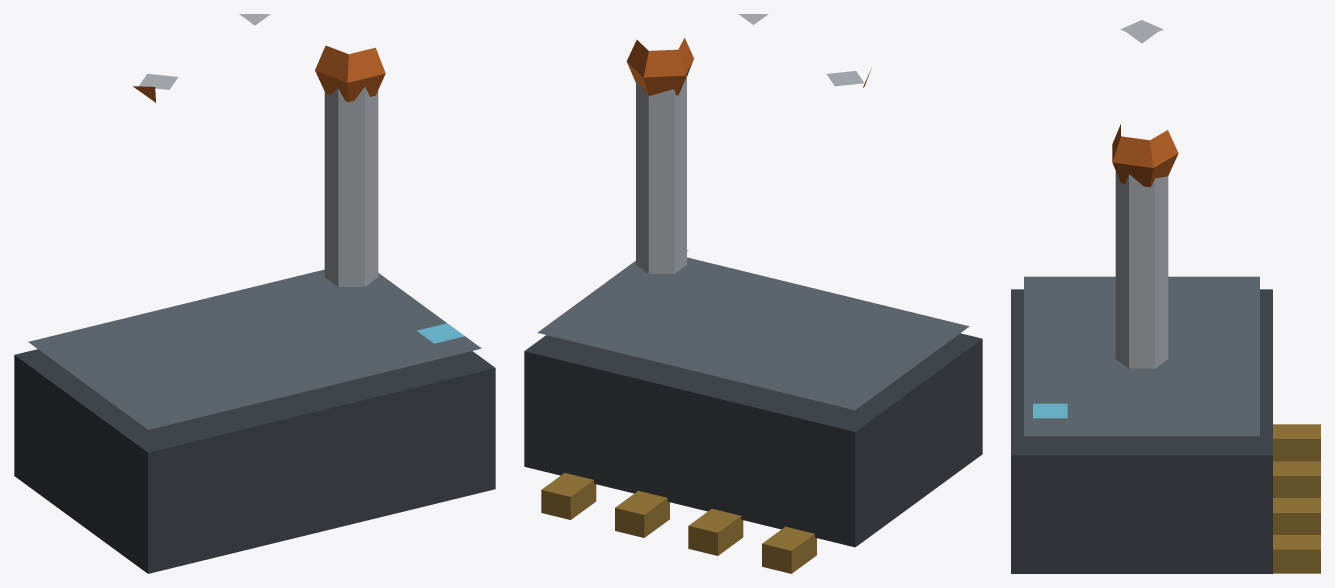
Rendered from droid-tool-integration.lod.glb.
3 views of the same model, side by side, from view 1: azimuth 30°, elevation 25°; view 2: azimuth 150°, elevation 25°; view 3: azimuth 270°, elevation 25° (orthographic). The views are drawn at different scales.
Parts seen in each view (by area): view 1: m; view 2: m; view 3: m.
Boxes of the visible parts, x1,y1,x2,y2 form: m: (14,14,495,573); m: (524,14,982,573); m: (1011,20,1320,573).
Size of the model in its own units: 0.1 by 0.1333 by 0.0789.
